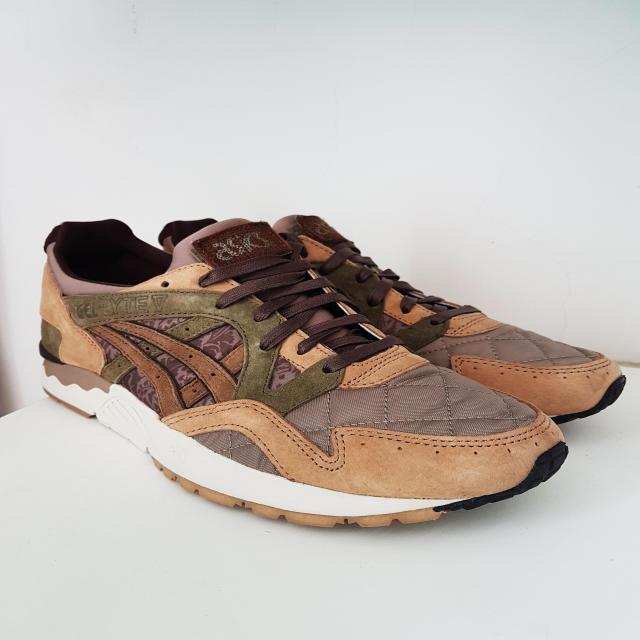shoes: (28, 210, 572, 560), (256, 200, 640, 435)
